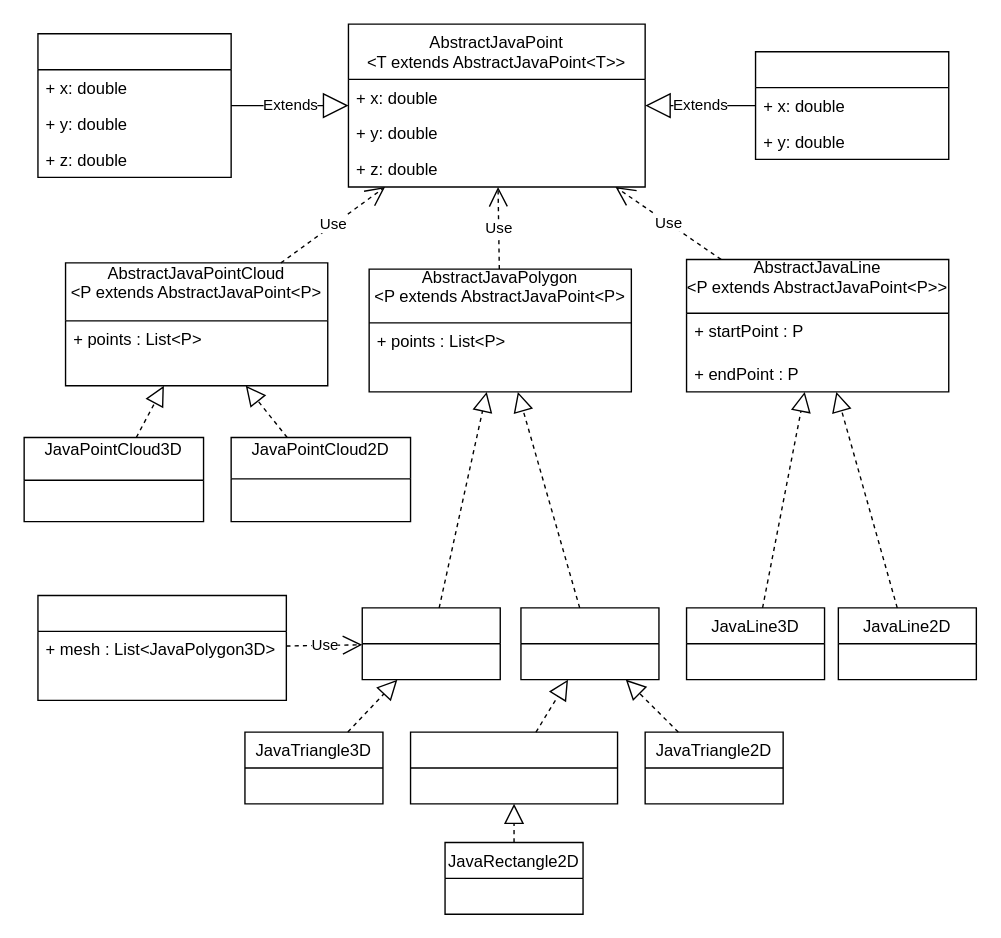
This 1001x938 diagram has some shape labels left out. The box of each missing label's shape, as (x1, y1, x2, y2) in pixels:
JavaModel3D: (37, 594, 286, 700)
JavaPoint2D: (754, 50, 949, 159)
JavaPoint3D: (37, 32, 231, 177)
JavaPolygon2D: (520, 607, 659, 680)
JavaPolygon3D: (361, 607, 500, 680)
JavaRectangleRotated2D: (409, 731, 618, 804)
